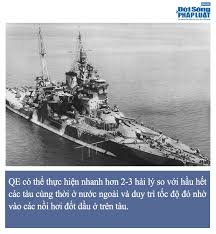tau_muctieu: (8, 45, 213, 167)
